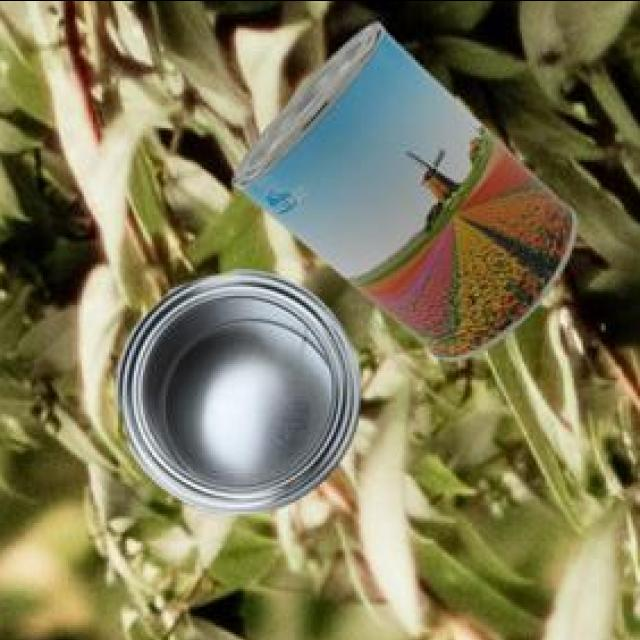logam: (228, 26, 573, 364), (112, 273, 357, 516)
